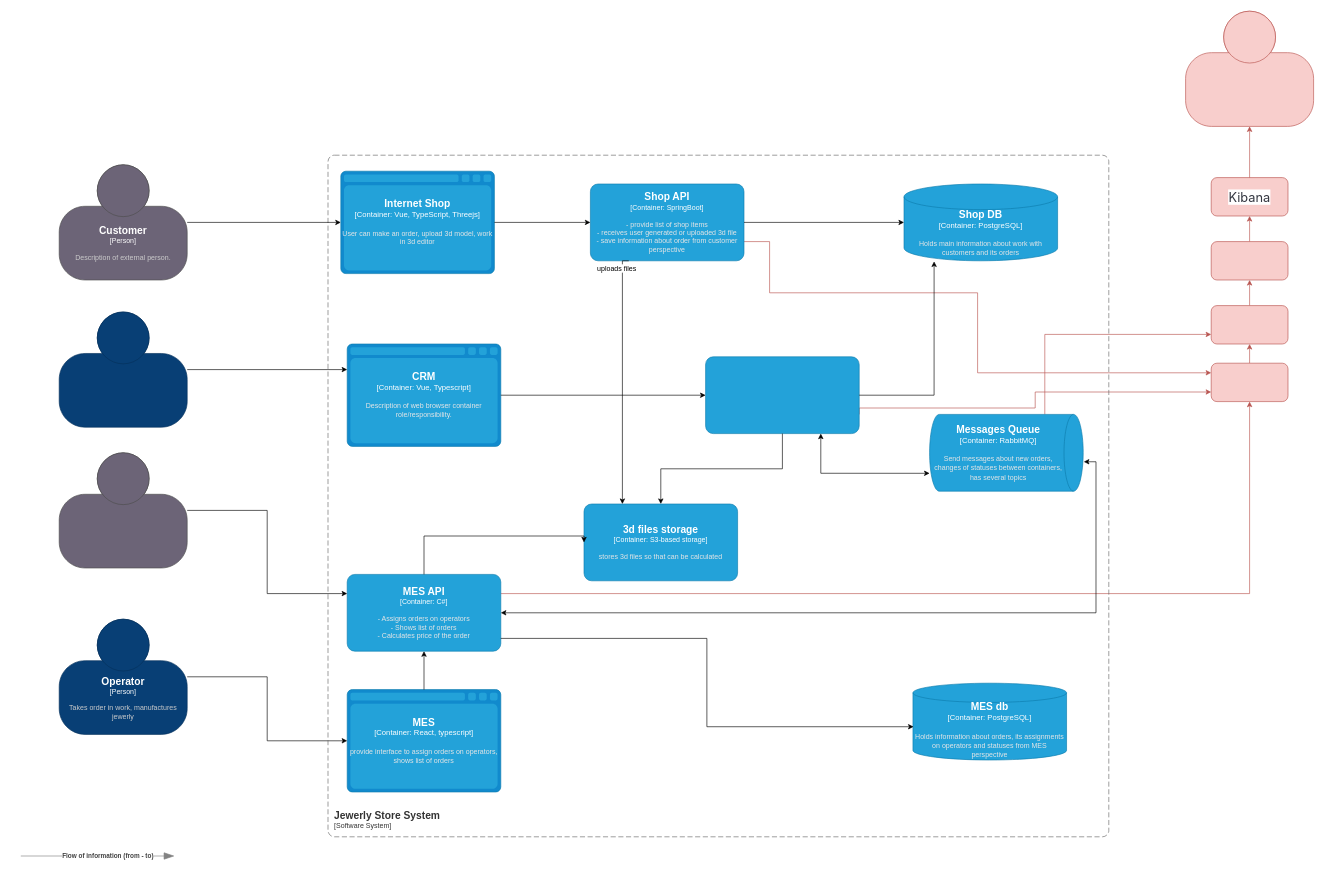
The diagram is 1325 pixels wide and 877 high, and some of its shapes have lost their labels. The shapes that lost their labels are listed below. From the top down, each one's centre as x and y in pixels, then its label:
At pixel 1249 68: "Administrator [Person] Description of person.".
At pixel 1249 260: "OpenSearch".
At pixel 1249 324: "Logstash".
At pixel 123 369: "Seller [Person] Operates with order, confirms manufacturing for the user".
At pixel 1249 382: "Beats".
At pixel 782 395: "CRM API [Container: SpringBoot] Description of container role/responsibility.".
At pixel 123 510: "API user [Person] Description of external person.".
